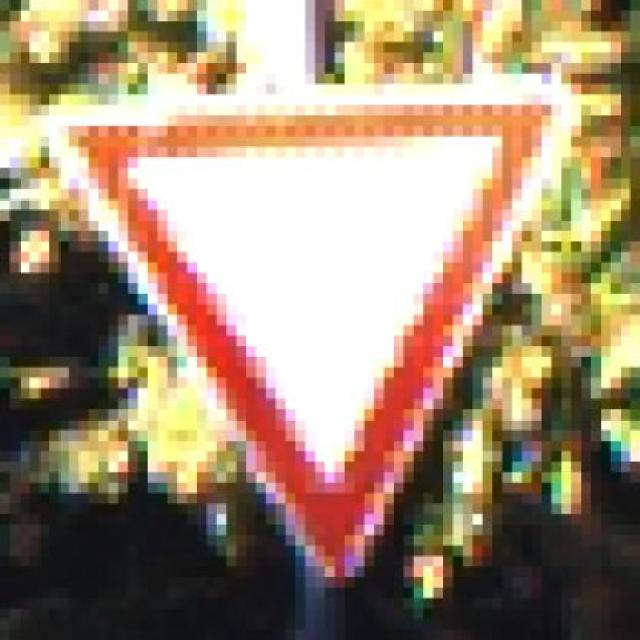Give Way: (19, 81, 621, 585)
